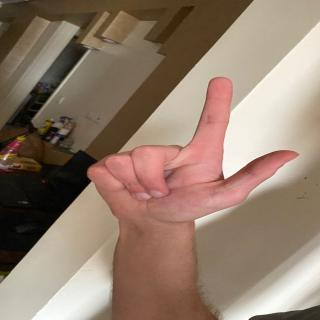LAAM: (76, 69, 297, 232)
